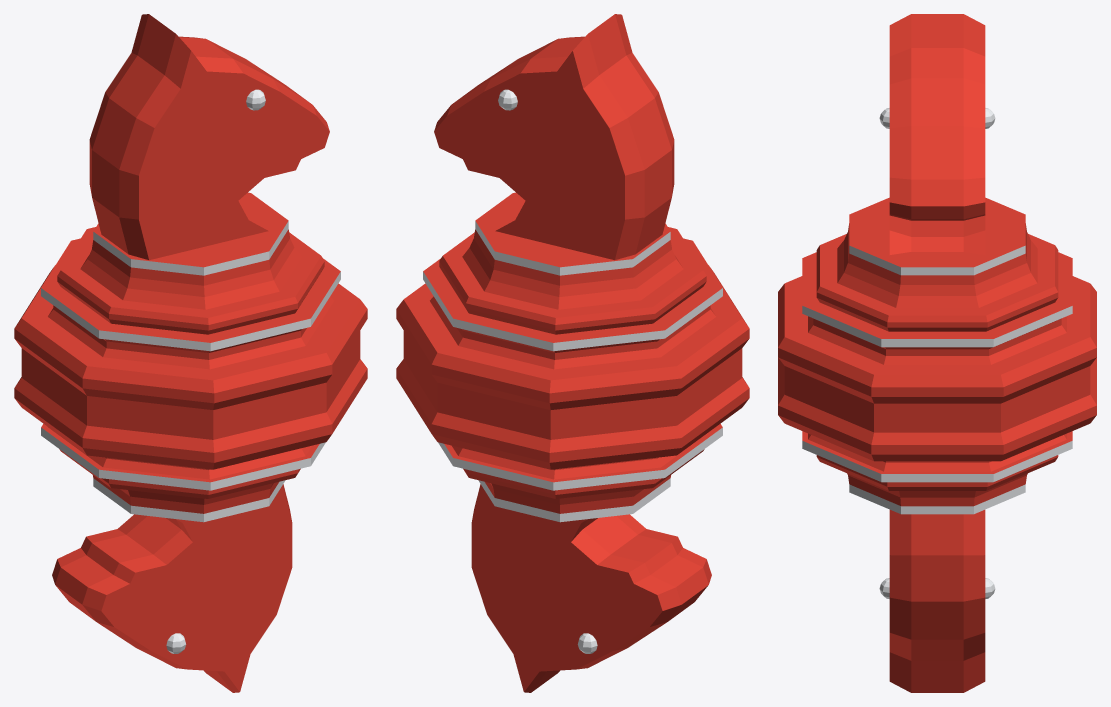
The model's file is knight-faceted.glb.
The picture shows the model from 3 angles, left to right: view 1: azimuth 30°, elevation 25°; view 2: azimuth 150°, elevation 25°; view 3: azimuth 270°, elevation 25°; orthographic projection. The views are drawn at different scales.
Visible parts, largest first — view 1: knight-faceted; view 2: knight-faceted; view 3: knight-faceted.
Boxes of the visible parts, x1,y1,x2,y2 form: knight-faceted: (14,14,367,692); knight-faceted: (396,14,749,692); knight-faceted: (778,14,1096,692).
Bounding box in the file's own units: 0.4308 × 0.9718 × 0.4308.
